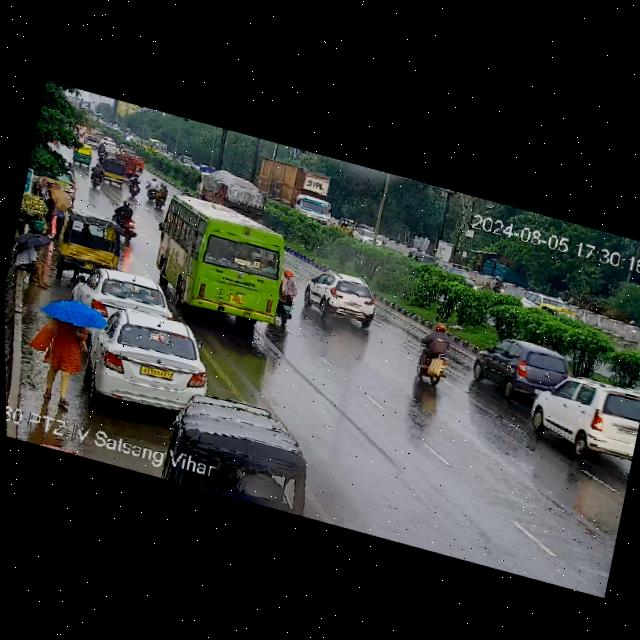bus: (146, 184, 297, 331)
car: (81, 302, 214, 422), (521, 362, 640, 471), (467, 316, 574, 413), (66, 257, 191, 333), (297, 261, 383, 336), (51, 202, 129, 277), (78, 128, 149, 171), (513, 285, 570, 315), (535, 300, 582, 328), (432, 258, 476, 286), (97, 155, 127, 188), (354, 226, 383, 249), (69, 142, 92, 167), (406, 244, 431, 263), (336, 214, 355, 236)
motorcycle: (411, 314, 459, 393), (100, 190, 143, 249), (123, 165, 172, 213), (267, 265, 302, 332), (488, 274, 511, 299), (86, 161, 106, 189)
person: (28, 291, 96, 414), (6, 224, 62, 292), (26, 169, 67, 232)
truck: (250, 149, 343, 233), (193, 163, 277, 222)
